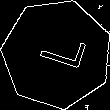L_W: (28, 31, 86, 77)
